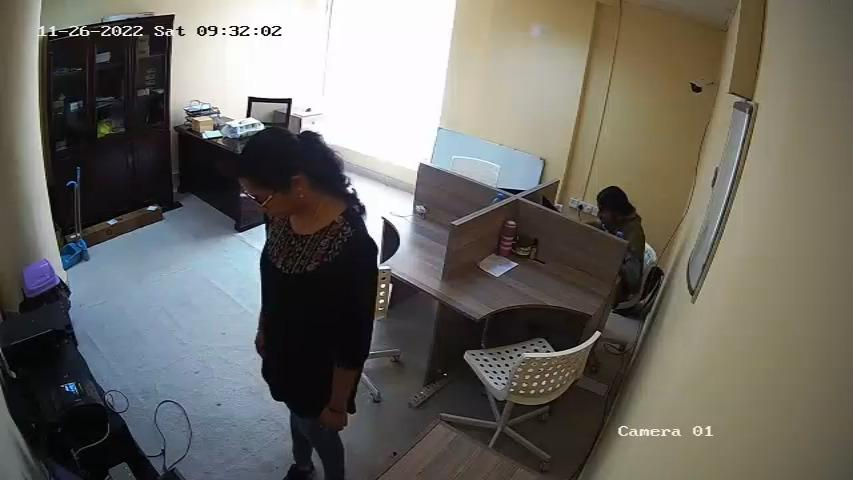no_apron: (265, 223, 341, 378)
